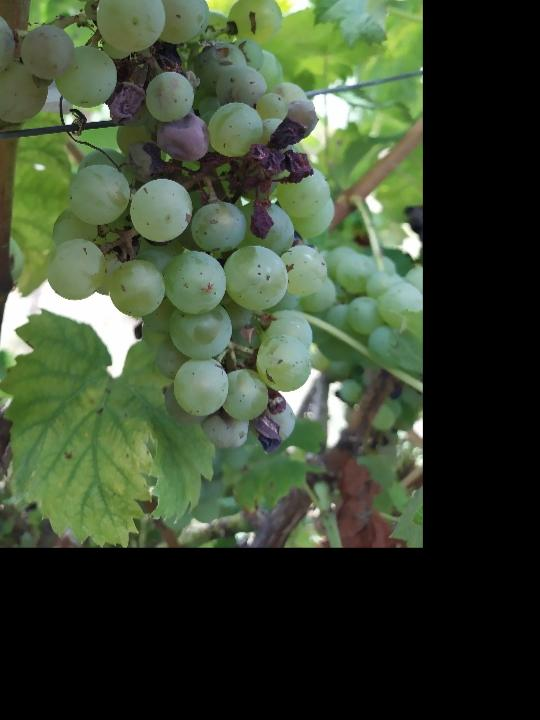grape: (0, 0, 339, 458)
